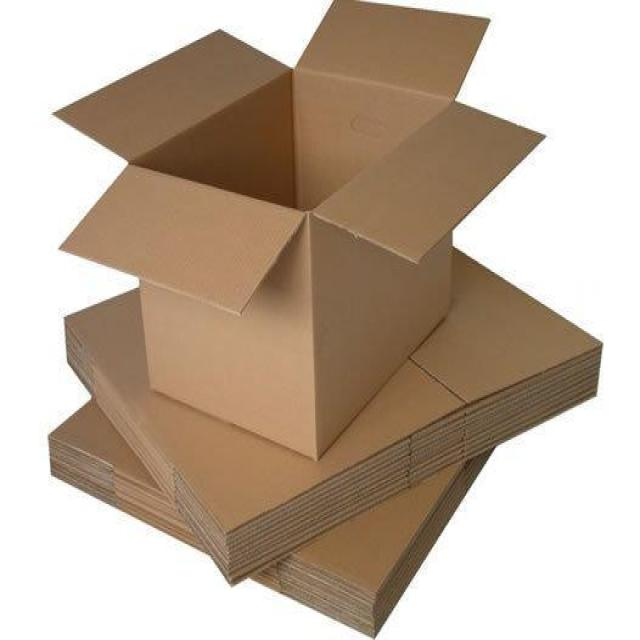Garbage: (51, 0, 546, 462)
